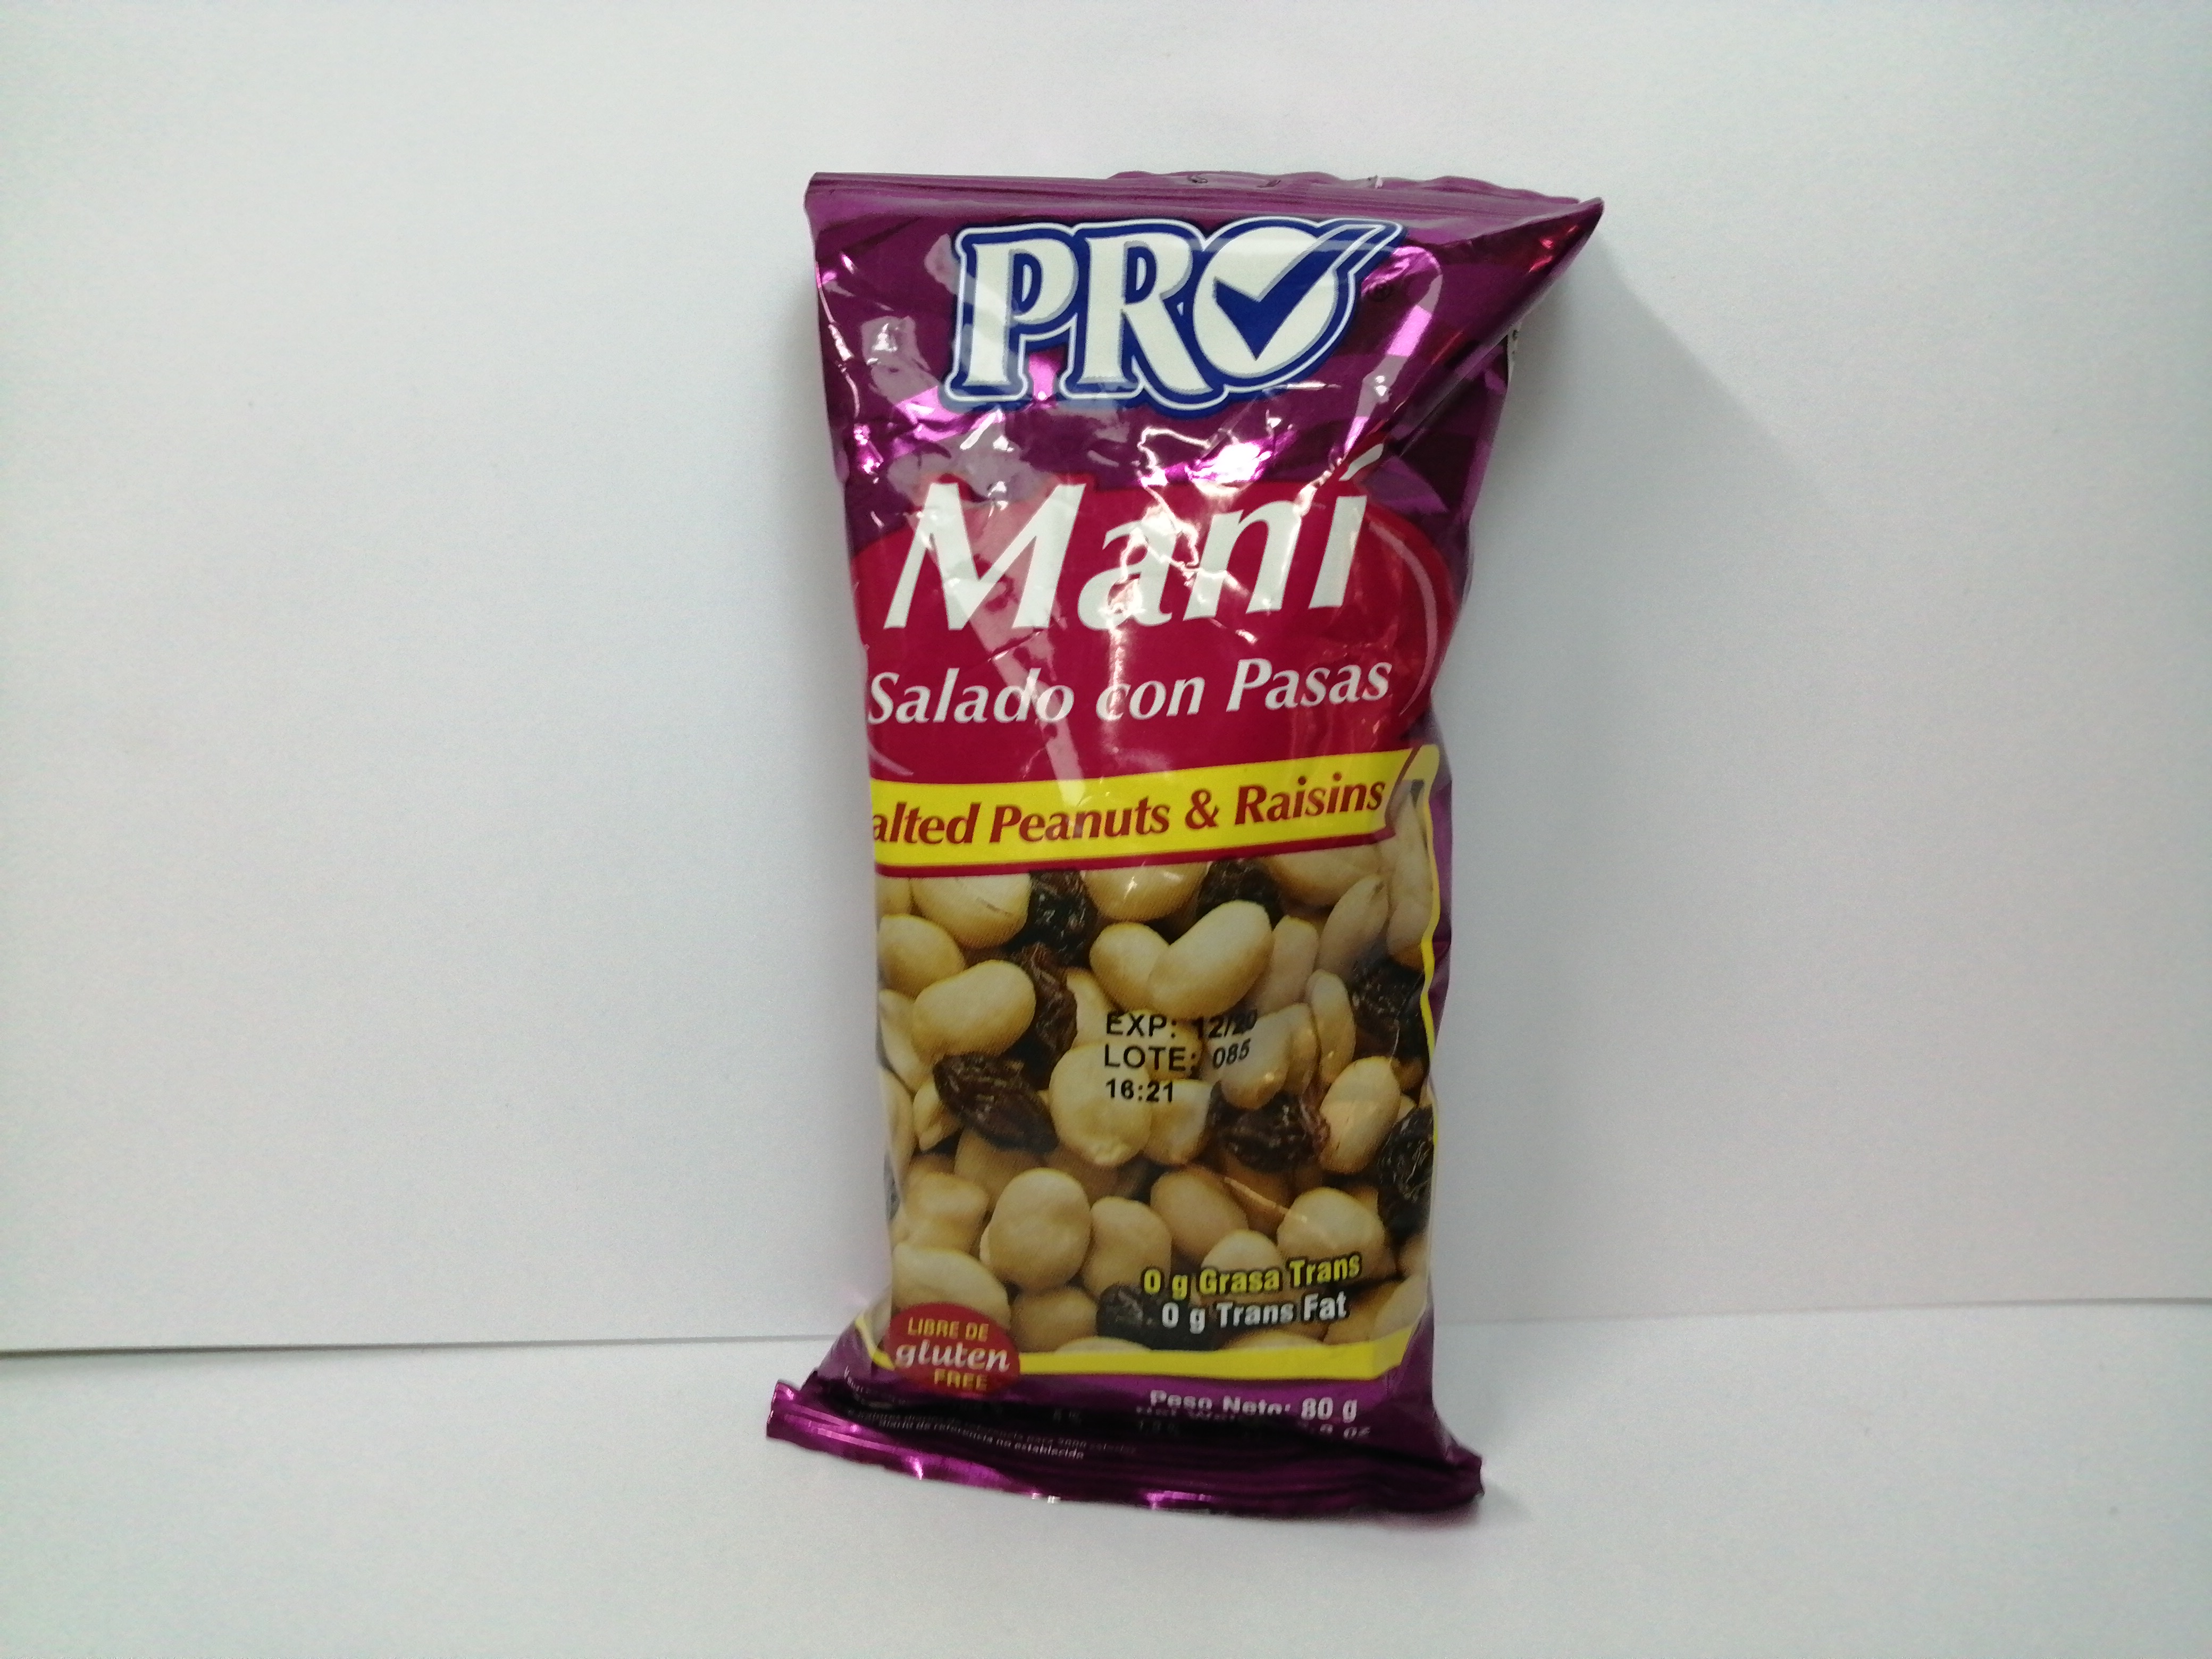mani: (770, 176, 1601, 1521)
